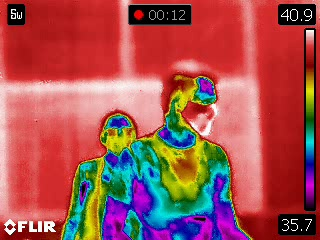human: (100, 62, 246, 240), (59, 107, 151, 240)
